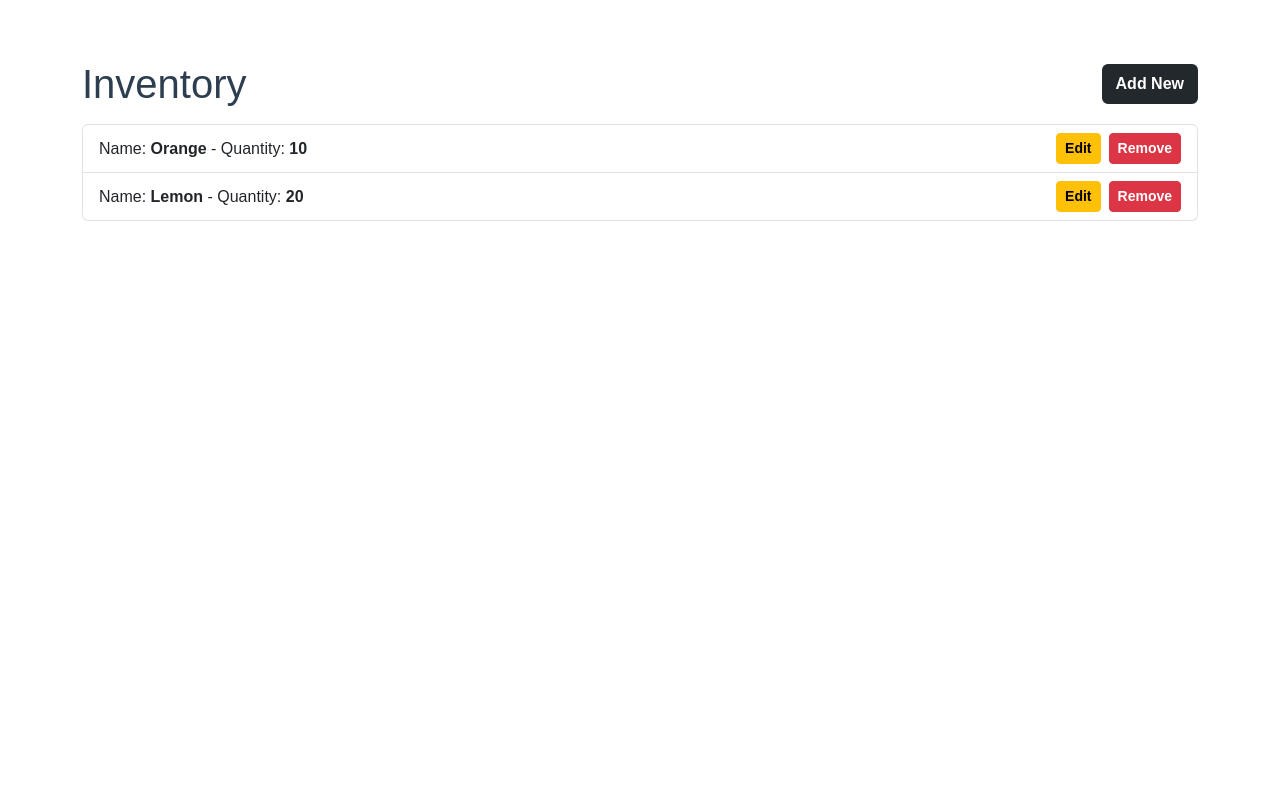
InventoryList.vue › shows ConfirmationDialog when first 'Remove' button is clicked
Click the button with test id "removeButton" in the row of "Orange" at (1145, 148), box [1108,133,1181,164]
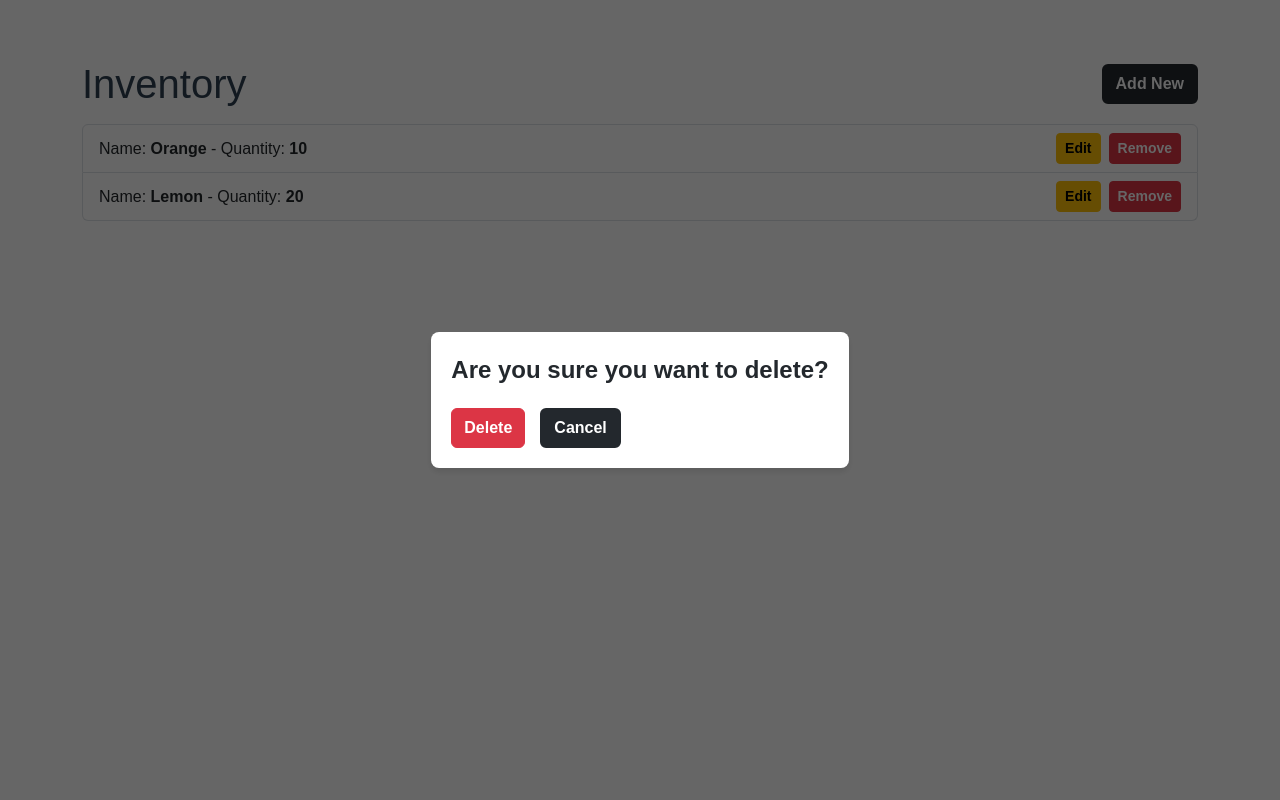
expect the element showing "Are you sure you want to delete? Delete Cancel" is shown: met
